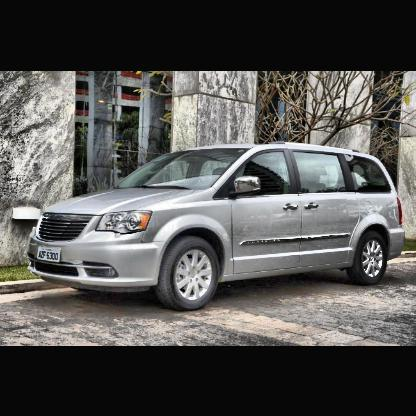Chrysler Town and Country Minivan 2012: (29, 143, 405, 310)
